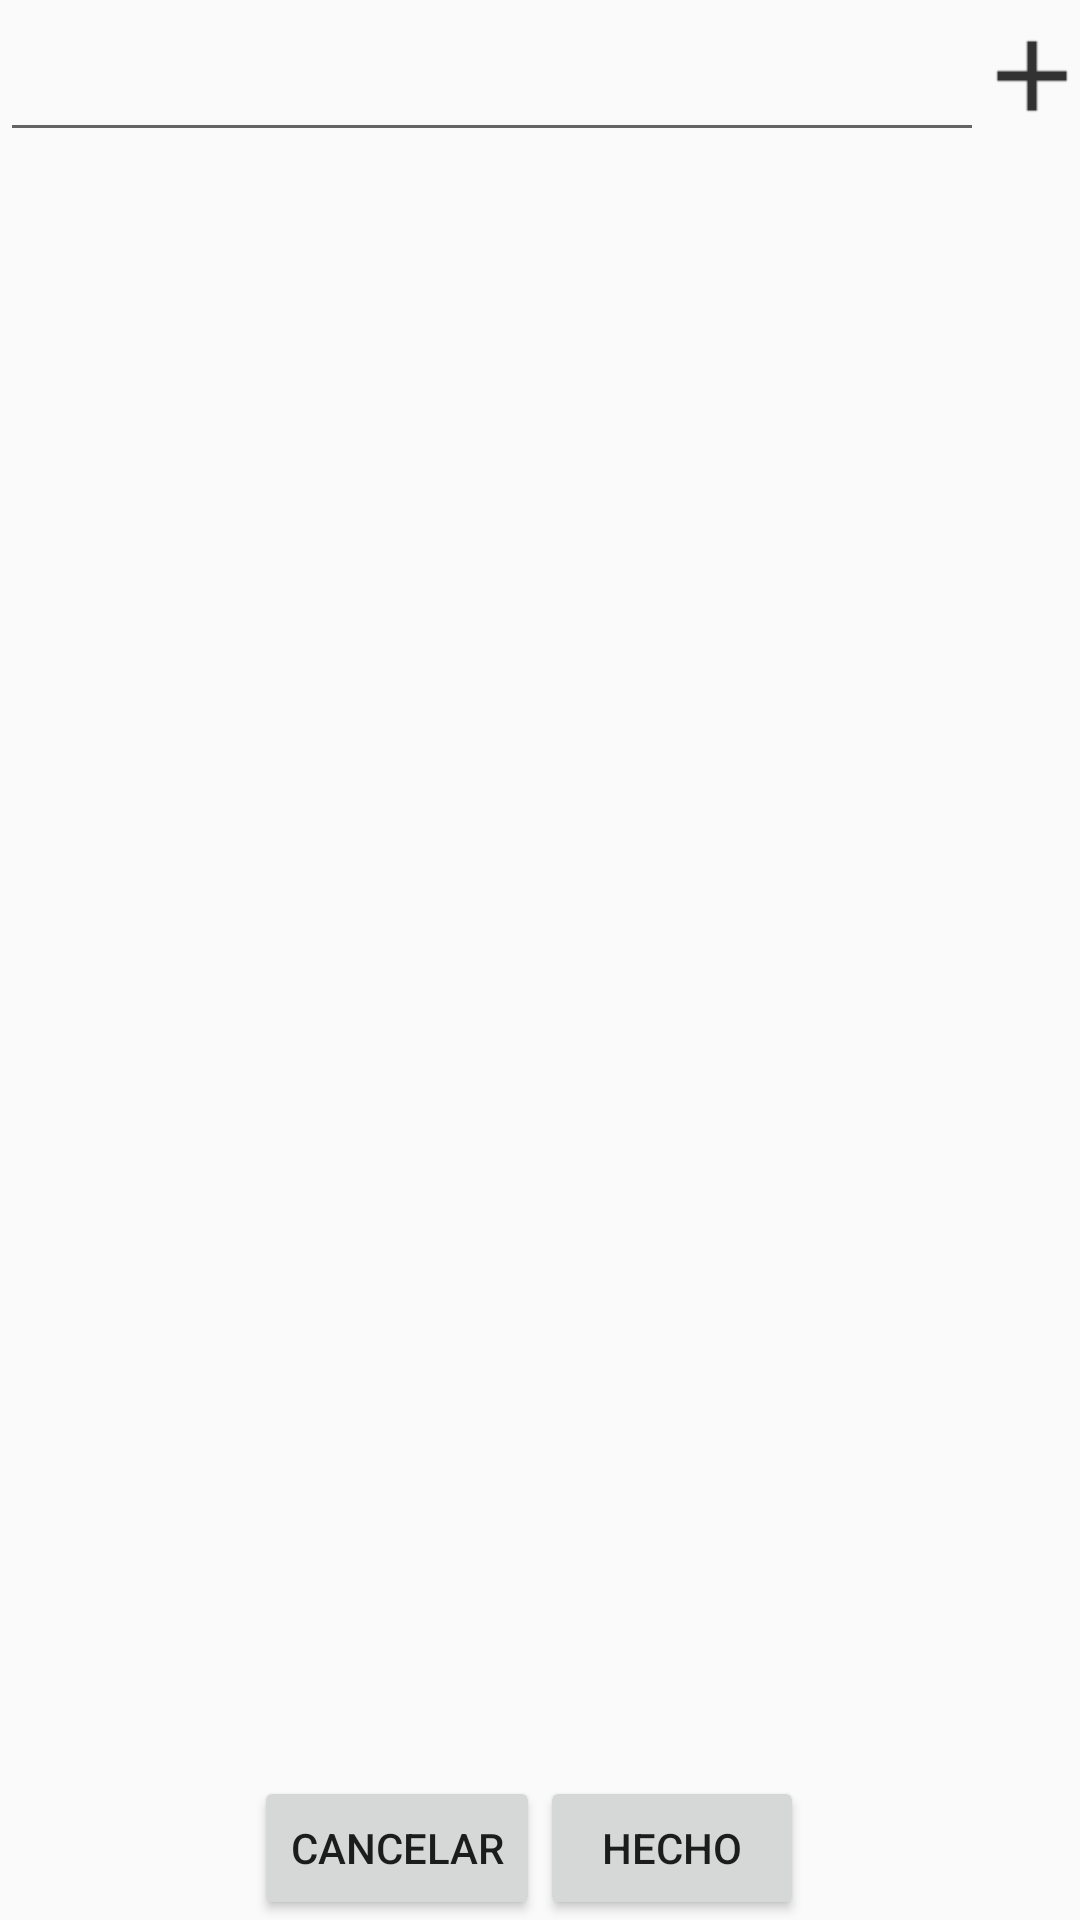

Point at icon controls on the screen. Image size 1080x1920, points as point (x, y).
add: point (1032, 76)
